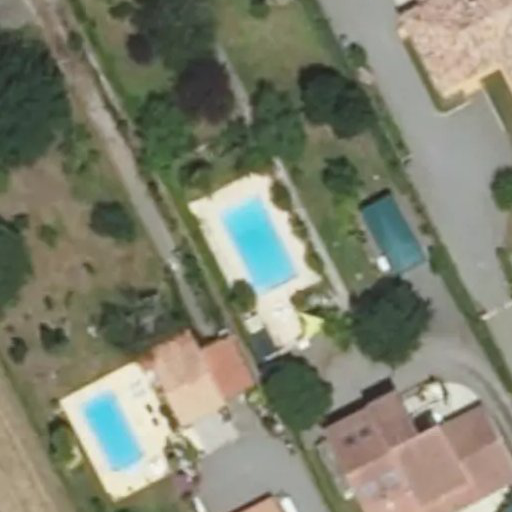pool: (216, 194, 297, 294), (72, 387, 156, 476)
